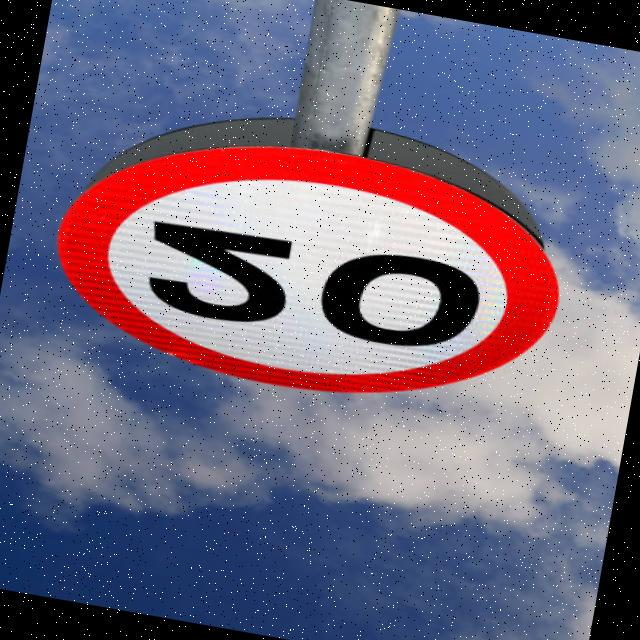speed_limit_20: (16, 90, 575, 447)
